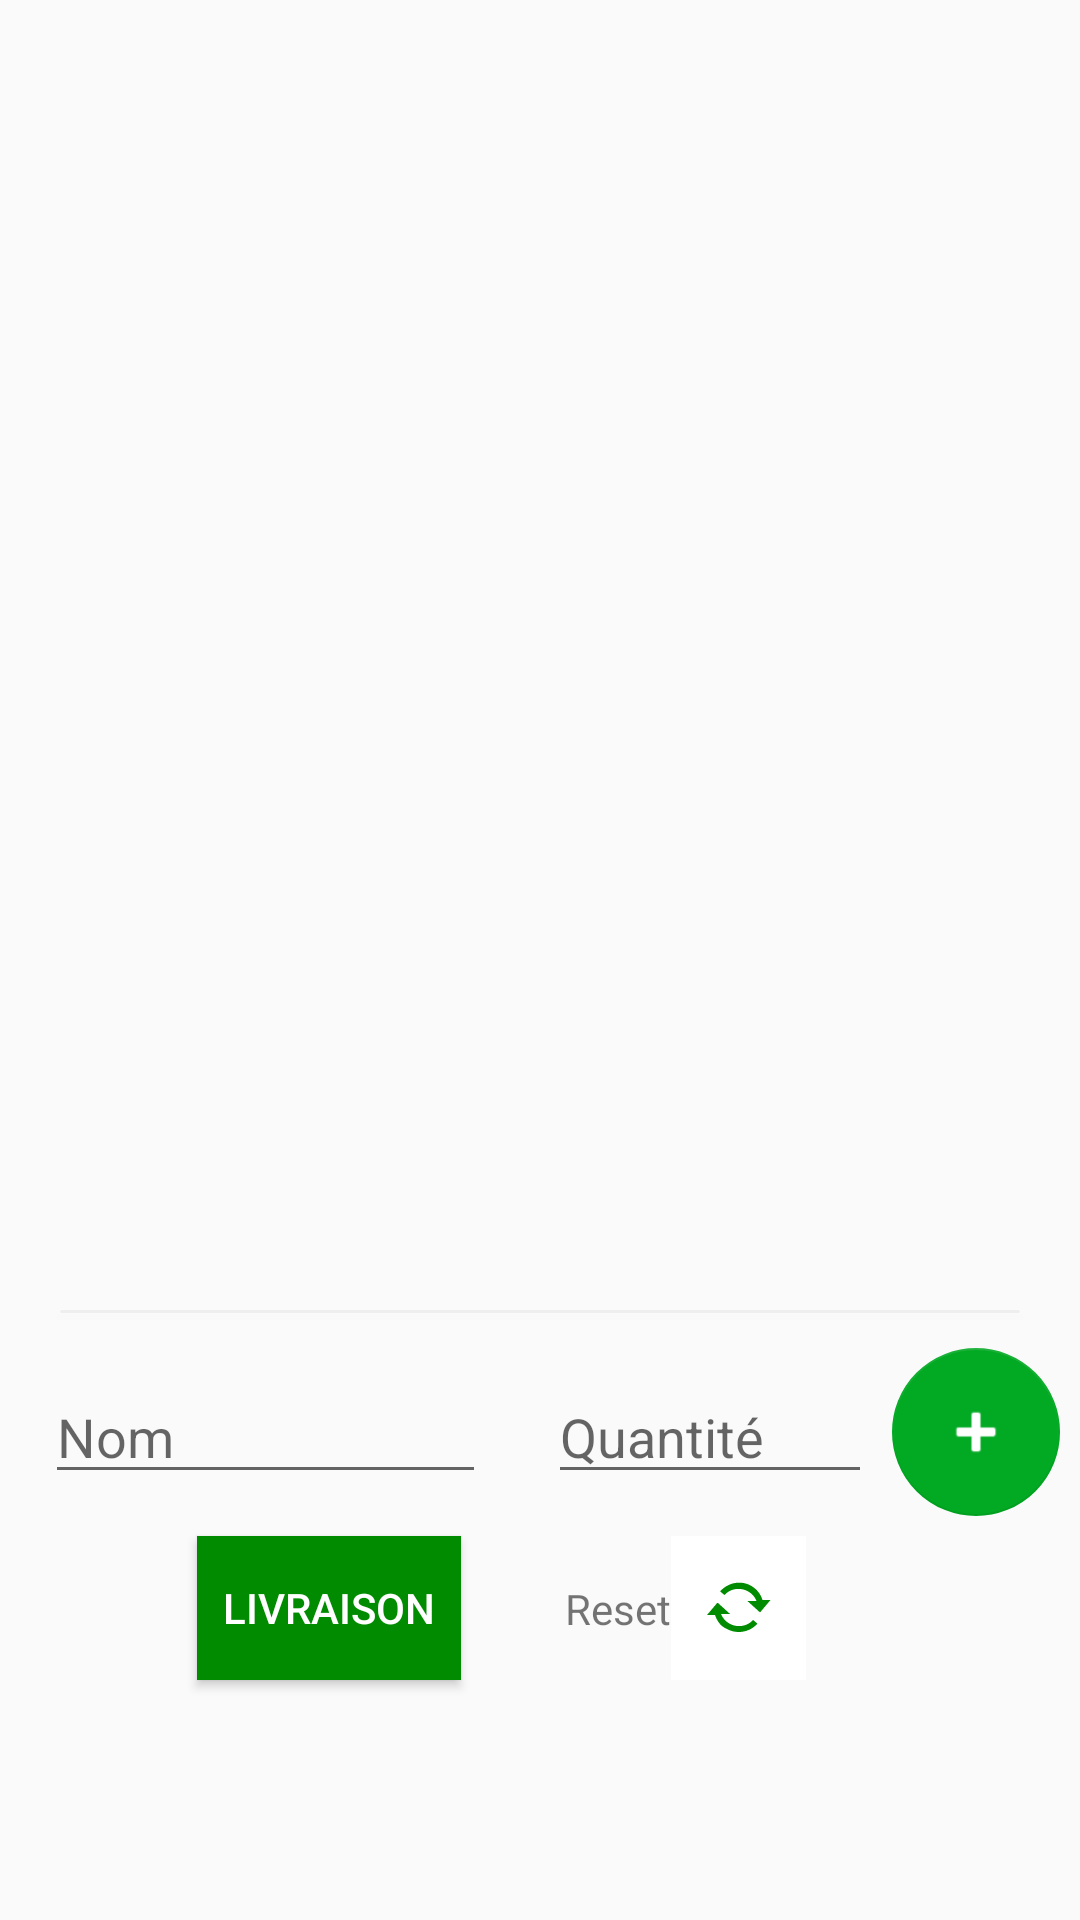

Locate icon controls on the screen. Image size 1080*1920, boxes as box=[x1, y1, x2, y2].
add: box=[892, 1348, 1060, 1516]
sync: box=[707, 1582, 771, 1632]
